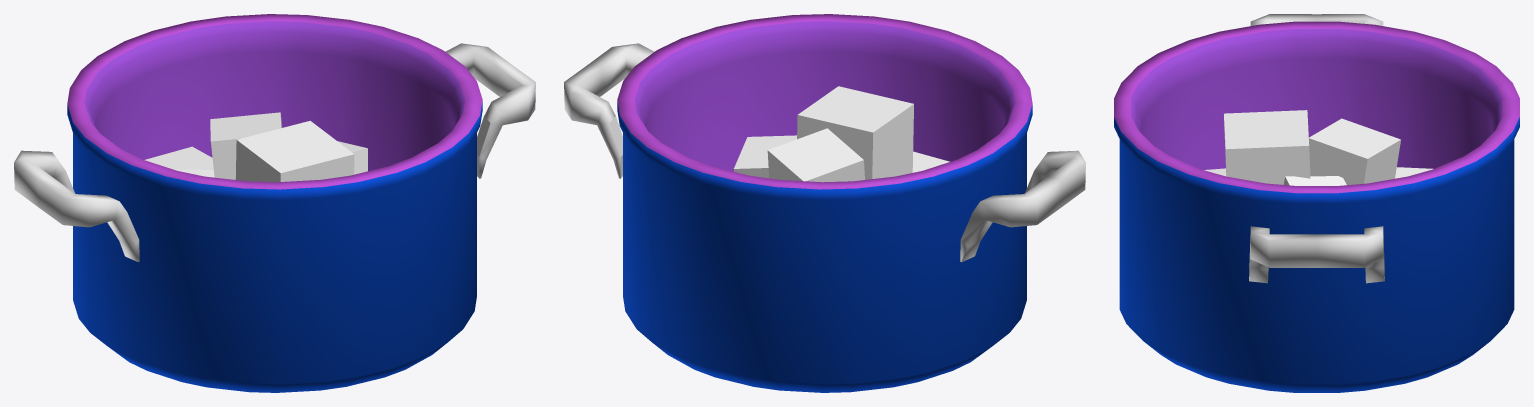
Rendered from ChoppedTofuPot.fbx.
3 views of the same model, side by side, from view 1: azimuth 30°, elevation 25°; view 2: azimuth 150°, elevation 25°; view 3: azimuth 270°, elevation 25° (orthographic).
Visible parts, largest first — view 1: Cylinder.006, Cylinder.007, Chopped Tofu.001; view 2: Cylinder.006, Chopped Tofu.001, Cylinder.007; view 3: Cylinder.006, Chopped Tofu.001, Cylinder.007.
Part boxes in pixels (x1=…): Cylinder.006: x1=67, y1=14, x2=482, y2=392; Cylinder.007: x1=14, y1=43, x2=535, y2=261; Chopped Tofu.001: x1=144, y1=112, x2=367, y2=182; Cylinder.006: x1=617, y1=14, x2=1032, y2=392; Chopped Tofu.001: x1=734, y1=86, x2=949, y2=182; Cylinder.007: x1=564, y1=43, x2=1085, y2=261; Cylinder.006: x1=1114, y1=21, x2=1519, y2=392; Chopped Tofu.001: x1=1204, y1=110, x2=1433, y2=185; Cylinder.007: x1=1249, y1=14, x2=1384, y2=283.
Size of the model in its own units: 83.38 by 35.99 by 62.94.
